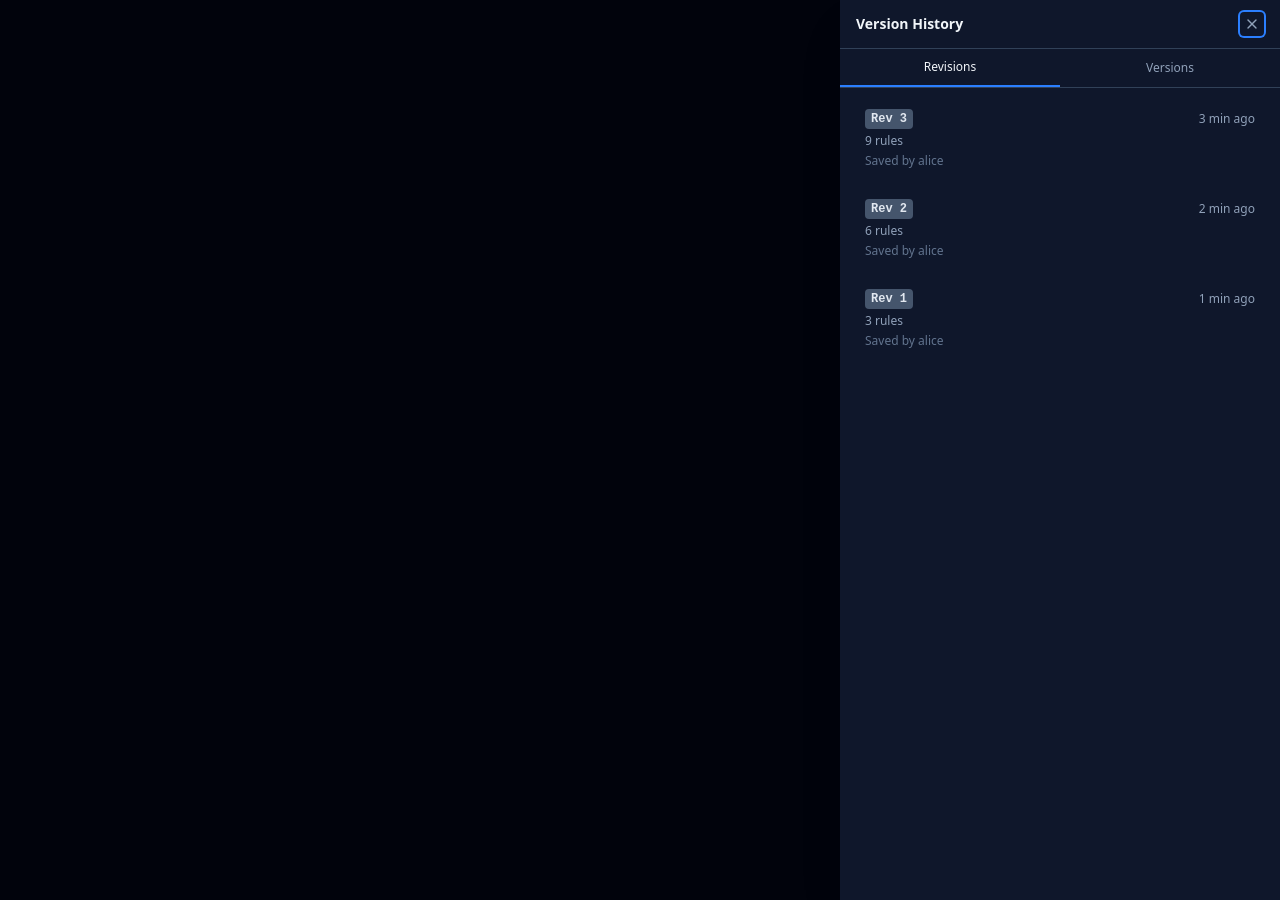
VersionHistoryDrawer — two-tab mode (T-07) › shows versions loading skeleton
The width and height of the screenshot is (1280, 900).
Step 1. Click the tab with test id "tab-versions" → coordinates (1170, 68), box [1060, 49, 1279, 87]
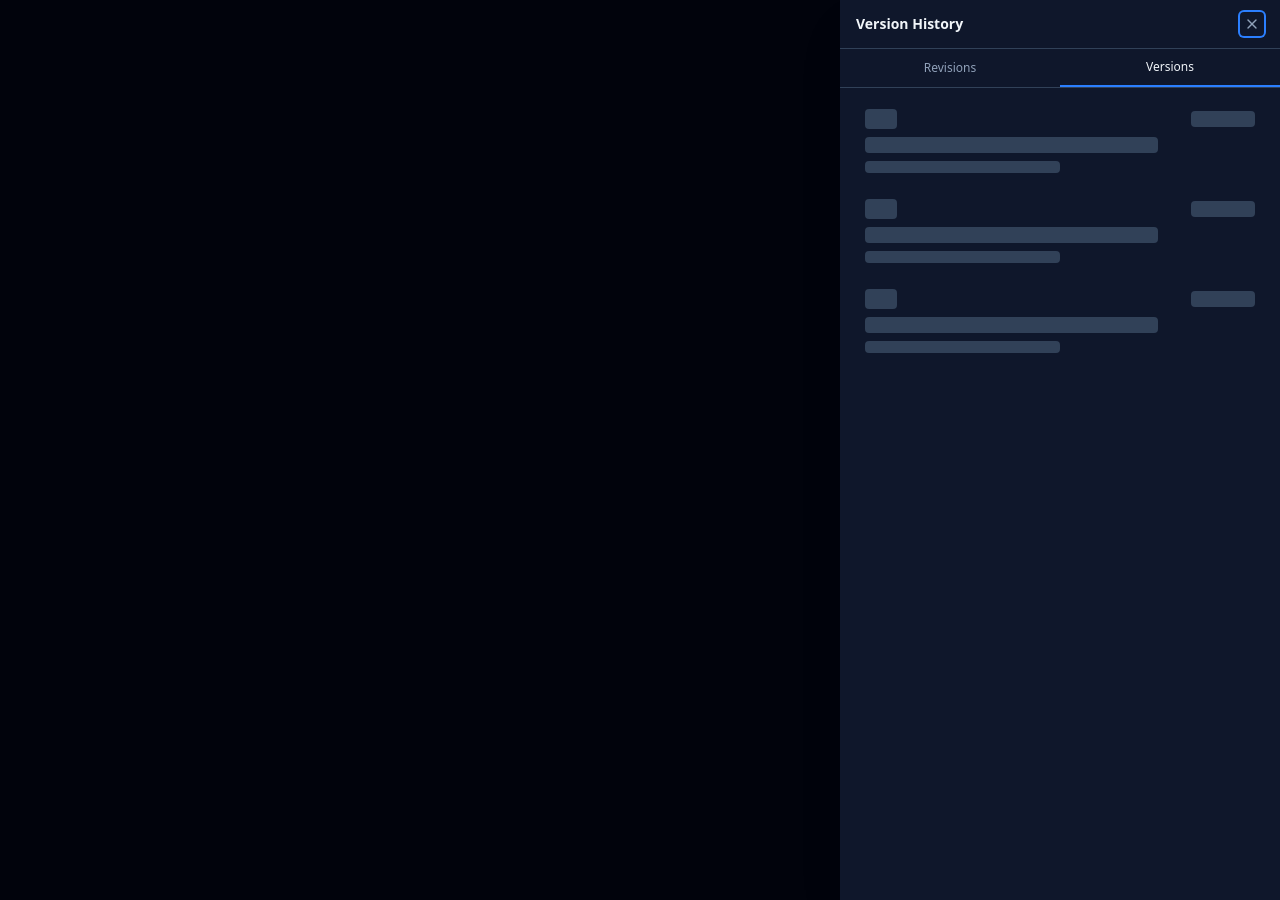
Expected: the element named "Loading versions" is shown, [852, 96, 1268, 366]
